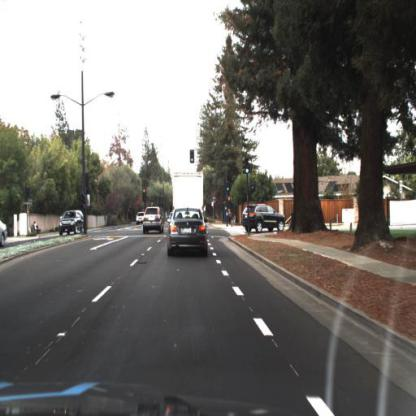car: (166, 205, 210, 259), (240, 201, 286, 235), (171, 170, 207, 206), (57, 207, 84, 238), (58, 208, 85, 237), (143, 207, 166, 235), (135, 205, 145, 231)
trafficLight-Green: (243, 158, 252, 179), (189, 149, 199, 167), (190, 148, 196, 166)
trafficLight-GreenLeft: (243, 156, 251, 177)
trafficLight-RedLeft: (141, 186, 149, 204)
truck: (171, 169, 205, 220)
